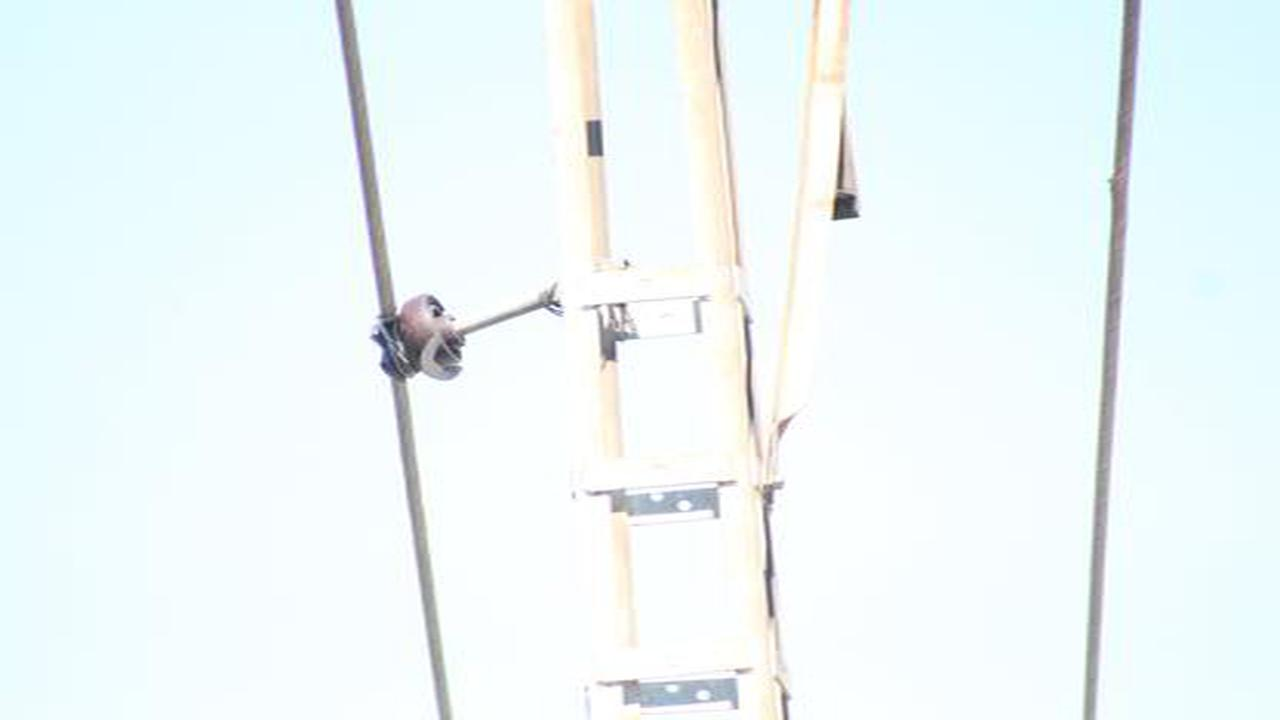insulator_pin: (373, 289, 467, 380)
